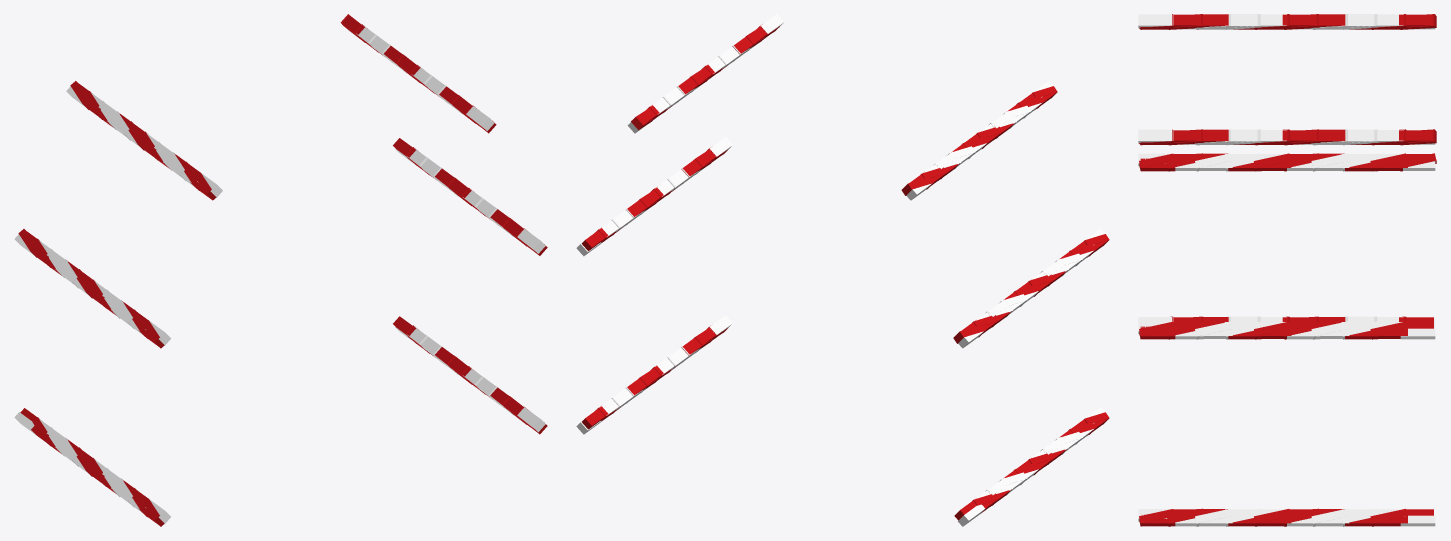
Rendered from poles2.dae.
3 renders of one model, left to right at view 1: azimuth 30°, elevation 25°; view 2: azimuth 150°, elevation 25°; view 3: azimuth 270°, elevation 25°, orthographic. The views are drawn at different scales.
Visible parts, largest first — view 1: no part large enough to name; view 2: no part large enough to name; view 3: Cube.034, Cube.082, Cube.057, Cube.093, Cube.026, Cube.092, Cube.076, Cube.059, Cube.077, Cube.164, Cube.124.
Boxes of the visible parts, x1=… form: Cube.034: x1=1138, y1=129, x2=1173, y2=143; Cube.082: x1=1138, y1=14, x2=1173, y2=28; Cube.057: x1=1312, y1=129, x2=1345, y2=142; Cube.093: x1=1399, y1=14, x2=1432, y2=26; Cube.026: x1=1196, y1=129, x2=1228, y2=142; Cube.092: x1=1312, y1=14, x2=1345, y2=26; Cube.076: x1=1196, y1=14, x2=1228, y2=26; Cube.059: x1=1399, y1=130, x2=1432, y2=142; Cube.077: x1=1282, y1=14, x2=1312, y2=26; Cube.164: x1=1400, y1=328, x2=1435, y2=339; Cube.124: x1=1400, y1=515, x2=1435, y2=526.
Bounding box in the file's own units: 210 × 131 × 169.
